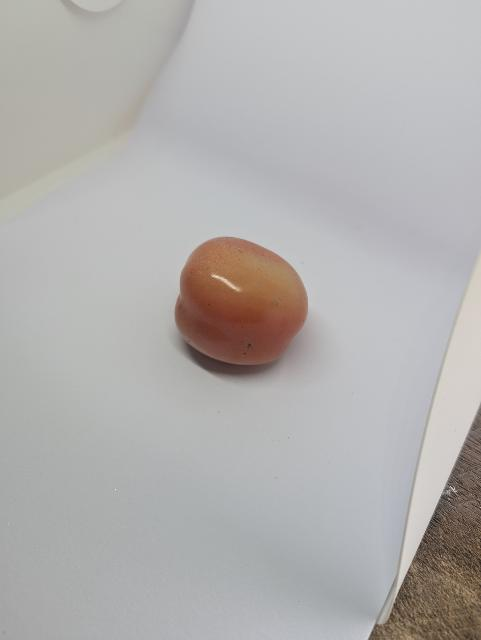turning: (166, 235, 313, 375)
